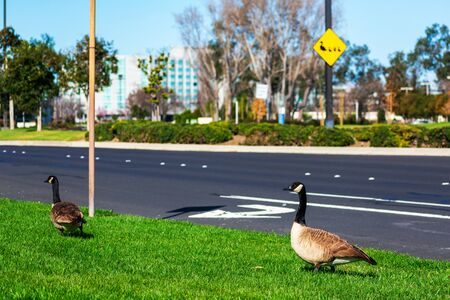goose: (280, 180, 381, 276), (41, 173, 89, 237)
